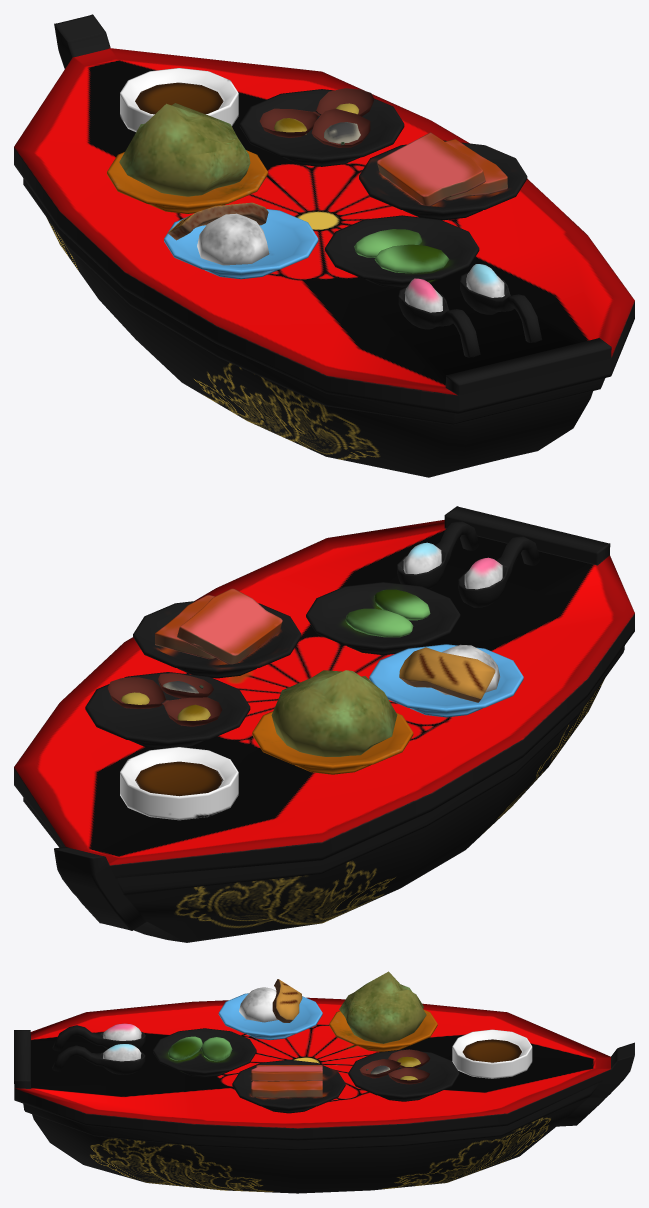
File: Hassun.fbx
3 views of the same model, one above another, from view 1: azimuth 30°, elevation 25°; view 2: azimuth 150°, elevation 25°; view 3: azimuth 270°, elevation 25° (orthographic). The views are drawn at different scales.
Parts seen in each view (by area): view 1: Hassan; view 2: Hassan; view 3: Hassan.
Part boxes in pixels (<box>): Hassan: <box>14,14,634,477</box>; Hassan: <box>14,506,634,942</box>; Hassan: <box>14,971,634,1193</box>.
Size of the model in its own units: 710 by 369 by 1422.
